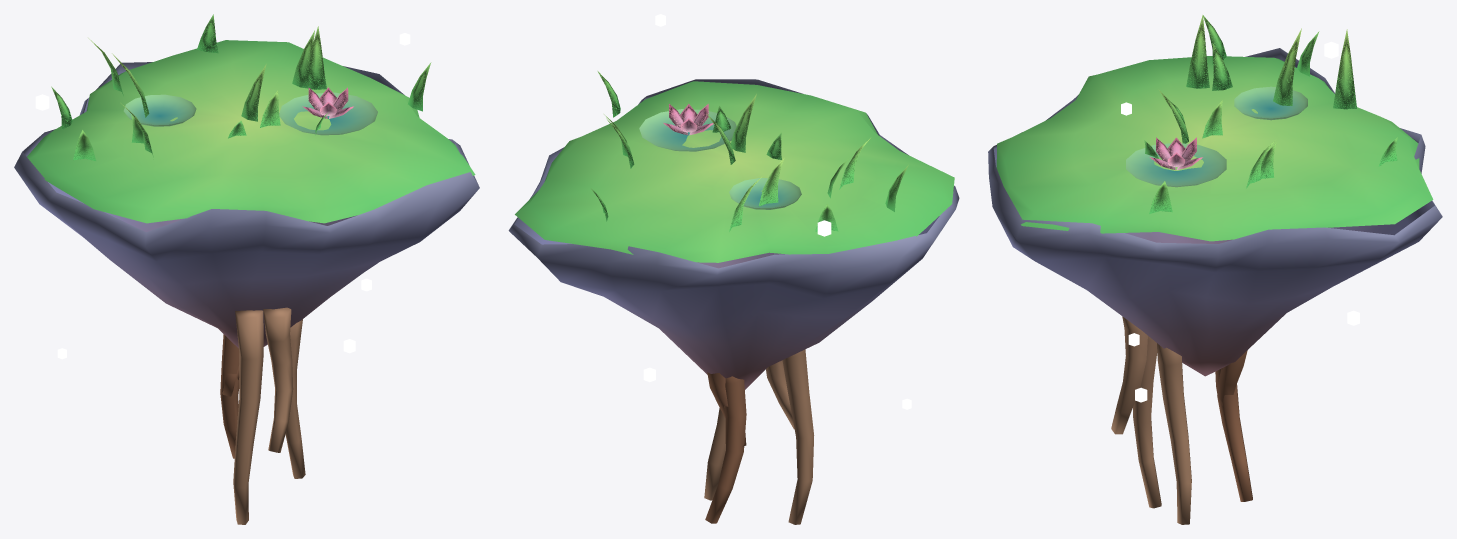
Rendered from verdant_float_lily_island.glb.
The picture shows the model from 3 angles, left to right: view 1: azimuth 30°, elevation 25°; view 2: azimuth 150°, elevation 25°; view 3: azimuth 270°, elevation 25°; orthographic projection. The views are drawn at different scales.
Parts seen in each view (by area): view 1: verdant_float_lily_island; view 2: verdant_float_lily_island; view 3: verdant_float_lily_island.
Boxes of the visible parts, x1,y1,x2,y2 form: verdant_float_lily_island: (14,14,479,524); verdant_float_lily_island: (508,14,959,524); verdant_float_lily_island: (988,15,1442,524).
Size of the model in its own units: 2.57 by 3.08 by 2.64.
